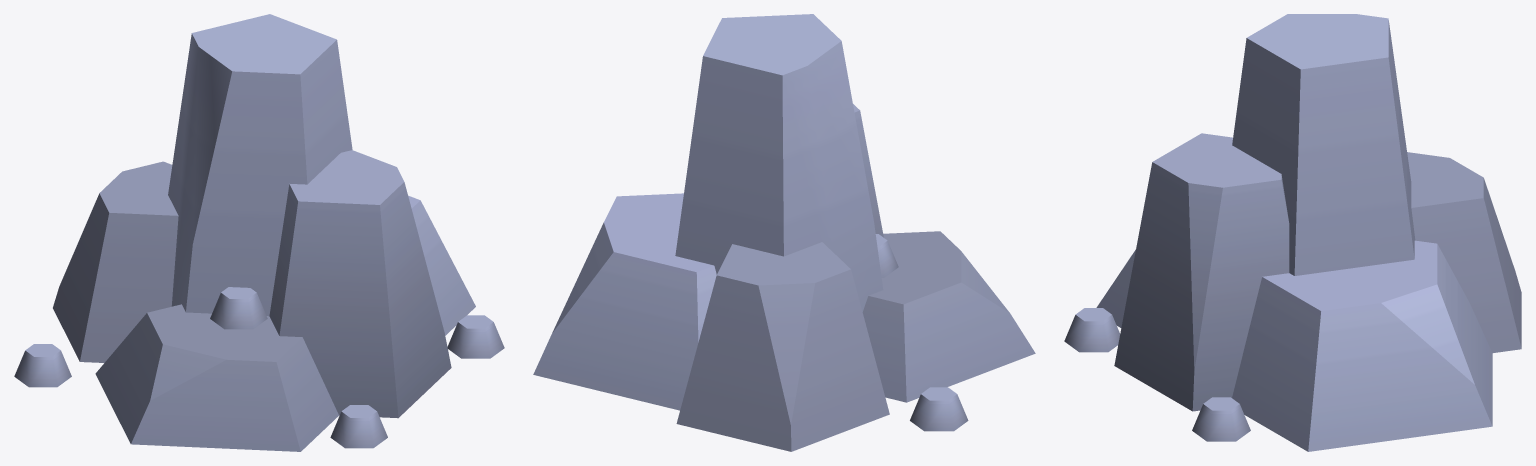
File: rock-large.glb
The picture shows the model from 3 angles, left to right: view 1: azimuth 30°, elevation 25°; view 2: azimuth 150°, elevation 25°; view 3: azimuth 270°, elevation 25°; orthographic projection. The views are drawn at different scales.
Visible parts, largest first — view 1: rock-large; view 2: rock-large; view 3: rock-large.
Boxes of the visible parts, bbox=[...] form: rock-large: bbox=[14, 14, 504, 451]; rock-large: bbox=[533, 14, 1035, 451]; rock-large: bbox=[1064, 14, 1521, 451].
Bounding box in the file's own units: 1.67 × 1.16 × 1.55.
Materials: 1 (1 with a texture image).
